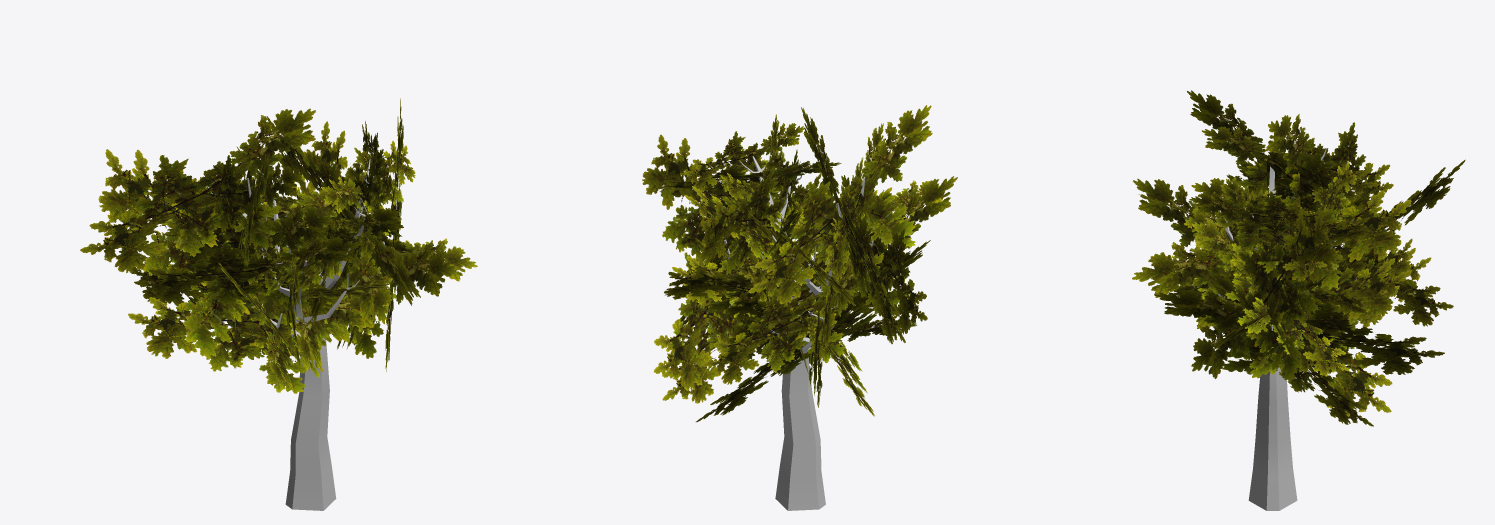
File: Boom_1_bladeren_gecombineerd.fbx
The picture shows the model from 3 angles, left to right: view 1: azimuth 30°, elevation 25°; view 2: azimuth 150°, elevation 25°; view 3: azimuth 270°, elevation 25°; orthographic projection. The views are drawn at different scales.
Parts seen in each view (by area): view 1: Plane.001, Goedeboom 1; view 2: Plane.001, Goedeboom 1; view 3: Plane.001, Goedeboom 1.
Boxes of the visible parts, left/top/right/bottom form: Plane.001: left=80, top=98, right=477, bottom=393; Goedeboom 1: left=242, top=158, right=394, bottom=510; Plane.001: left=642, top=105, right=957, bottom=422; Goedeboom 1: left=724, top=156, right=873, bottom=510; Plane.001: left=1132, top=90, right=1465, bottom=426; Goedeboom 1: left=1205, top=148, right=1356, bottom=510.
Bounding box in the file's own units: 862 × 1015 × 846.
